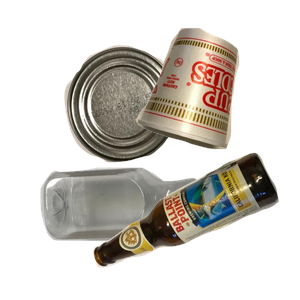glass: (91, 150, 300, 300)
metal: (62, 43, 232, 198)
plastic: (38, 165, 255, 300)
trash: (133, 25, 300, 167)
